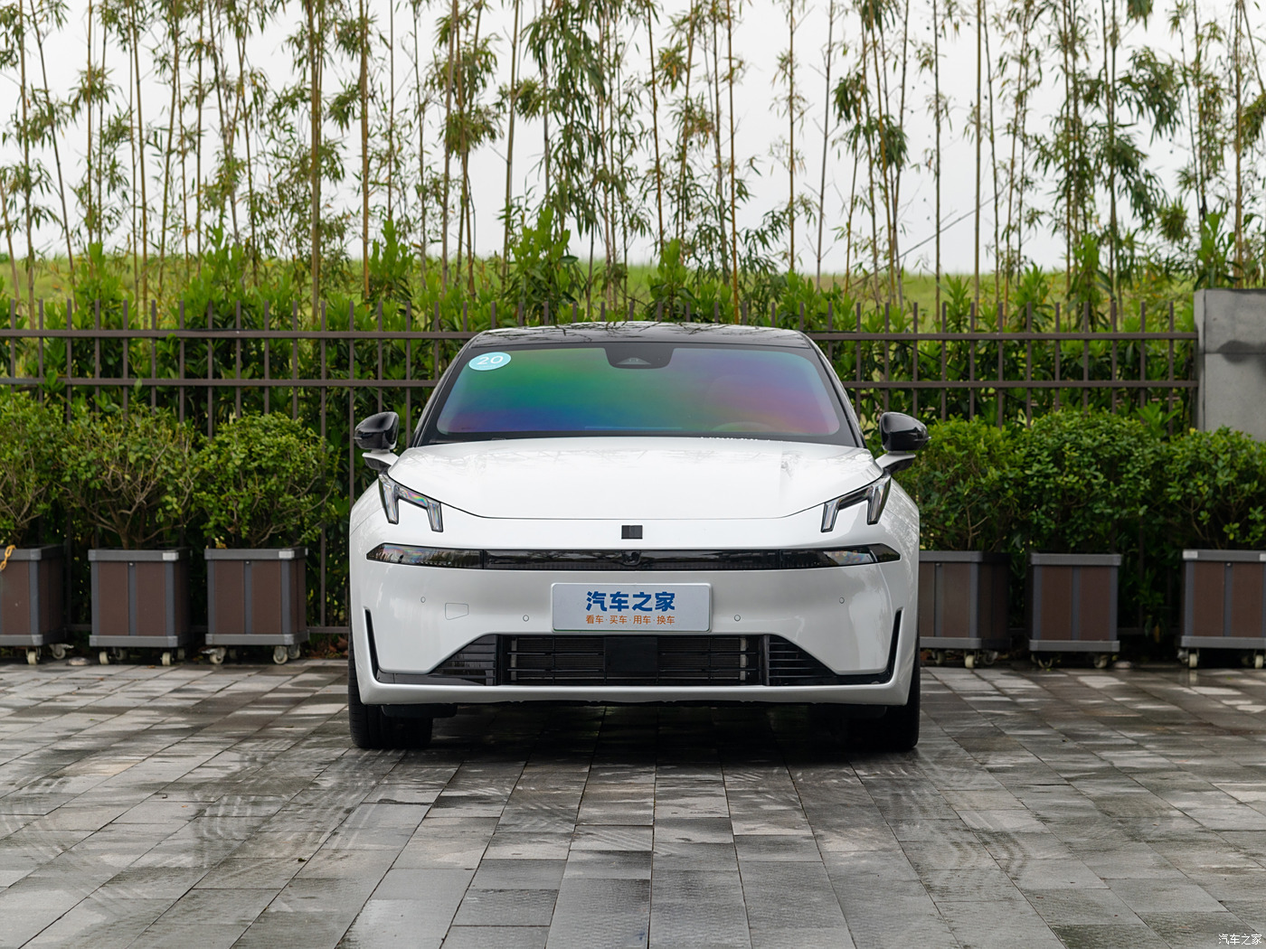LINK&CO: (621, 525, 643, 540)
